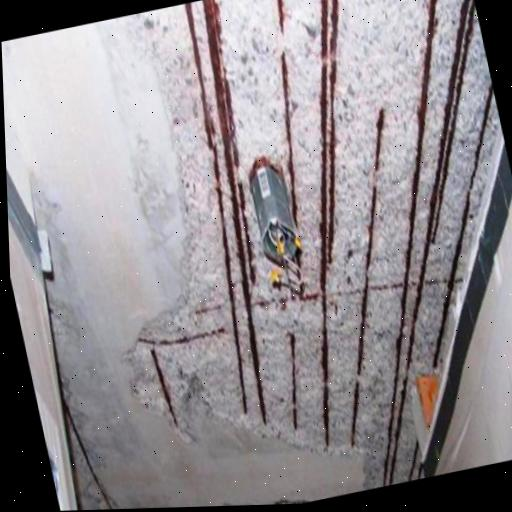exposed_rebar: (202, 0, 266, 422), (184, 2, 247, 413), (383, 0, 436, 486), (406, 0, 469, 372), (431, 81, 493, 367), (431, 0, 475, 244), (61, 394, 114, 509), (317, 0, 328, 449), (356, 186, 377, 376), (280, 50, 297, 224), (327, 0, 338, 263), (389, 375, 408, 485), (151, 349, 177, 427), (237, 181, 256, 284), (136, 328, 224, 345), (289, 332, 297, 430), (350, 380, 359, 447), (375, 108, 383, 171), (408, 437, 419, 481), (277, 0, 284, 36), (277, 0, 283, 34), (254, 297, 273, 307), (299, 293, 318, 301), (424, 277, 439, 286), (278, 296, 286, 310), (417, 461, 422, 479), (390, 282, 402, 288), (371, 285, 382, 290), (195, 309, 208, 313), (454, 277, 462, 282), (334, 303, 337, 315), (443, 277, 446, 283), (329, 301, 333, 305), (411, 282, 415, 285), (383, 284, 386, 288)
spalling: (130, 0, 502, 489)
